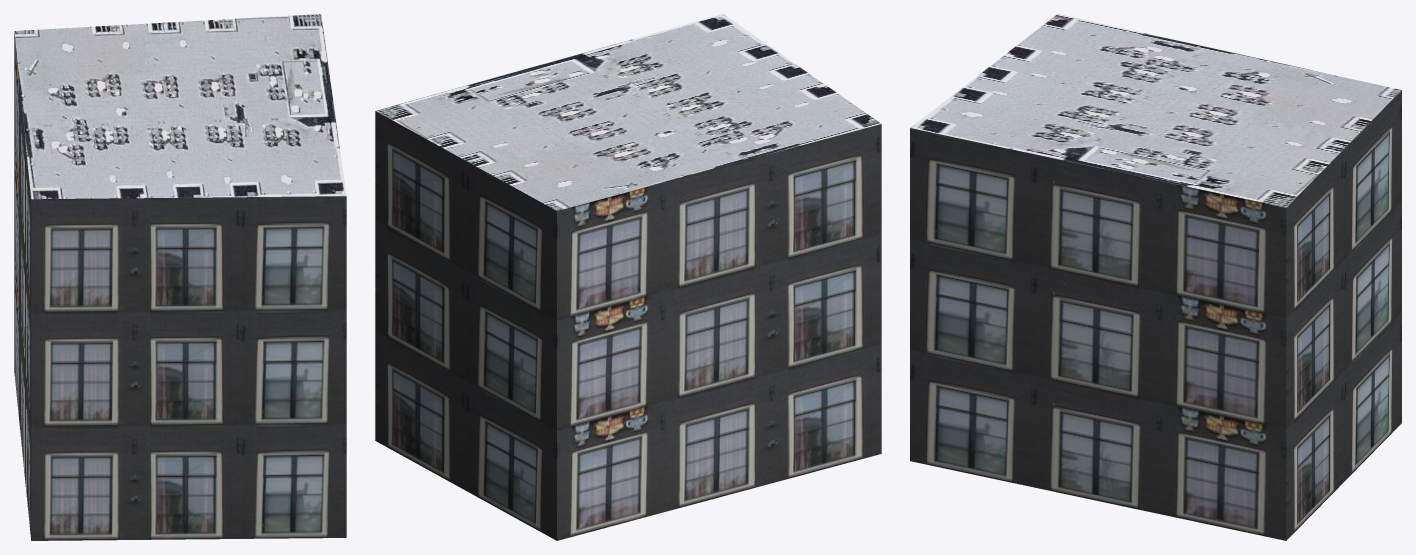
File: ResTex__3801.fbx
3 renders of one model, left to right at view 1: azimuth 30°, elevation 25°; view 2: azimuth 150°, elevation 25°; view 3: azimuth 270°, elevation 25°, orthographic. The views are drawn at different scales.
Visible parts, largest first — view 1: CityEngineMaterial_22_m, CityEngineMaterial_8_m; view 2: CityEngineMaterial_22_m, CityEngineMaterial_8_m; view 3: CityEngineMaterial_22_m, CityEngineMaterial_8_m.
Part boxes in pixels (bbox=[...]): CityEngineMaterial_22_m: bbox=[14, 31, 346, 540]; CityEngineMaterial_8_m: bbox=[14, 14, 346, 199]; CityEngineMaterial_22_m: bbox=[375, 111, 881, 540]; CityEngineMaterial_8_m: bbox=[375, 14, 881, 210]; CityEngineMaterial_22_m: bbox=[910, 90, 1401, 540]; CityEngineMaterial_8_m: bbox=[910, 14, 1401, 207].
Size of the model in its own units: 11.23 by 9 by 12.04.
2 materials, 2 textured.
